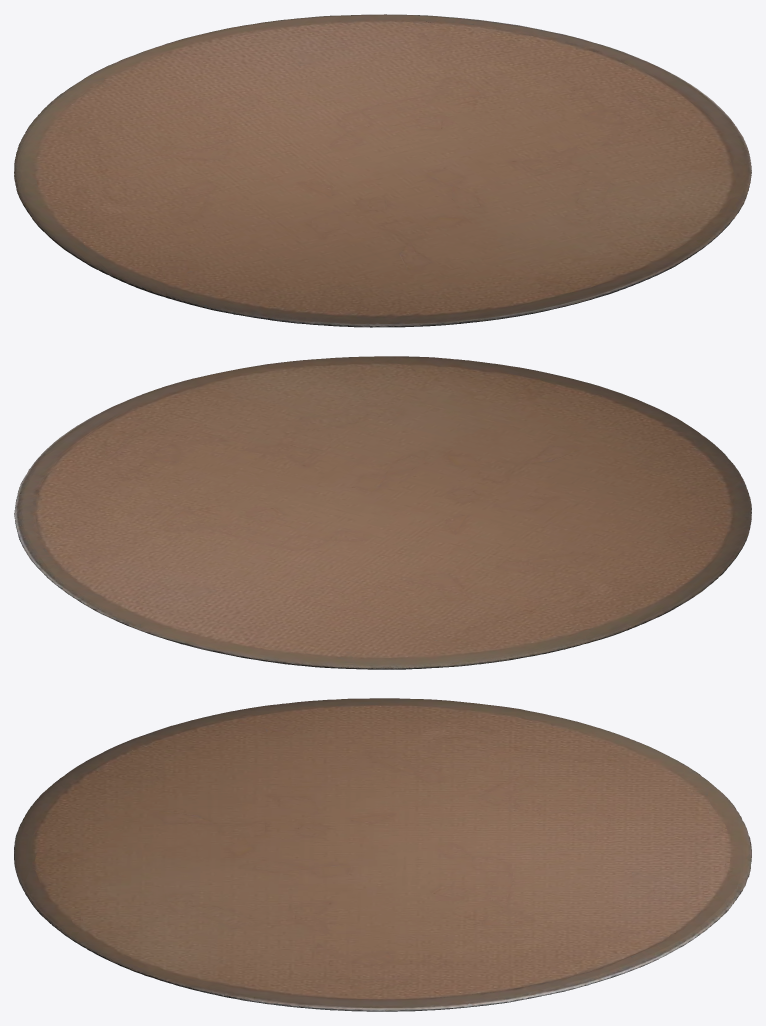
The model's file is ast_bca29a5798f3.glb.
3 renders of one model, top to bottom at view 1: azimuth 30°, elevation 25°; view 2: azimuth 150°, elevation 25°; view 3: azimuth 270°, elevation 25°, orthographic.
Parts seen in each view (by area): view 1: geometry_0; view 2: geometry_0; view 3: geometry_0.
Boxes of the visible parts, left/top/right/bottom form: geometry_0: left=14, top=14, right=751, bottom=327; geometry_0: left=14, top=356, right=751, bottom=669; geometry_0: left=14, top=698, right=751, bottom=1011.
Bounding box in the file's own units: 1 × 0.00922 × 0.9994.
Materials: 1 (1 with a texture image).
